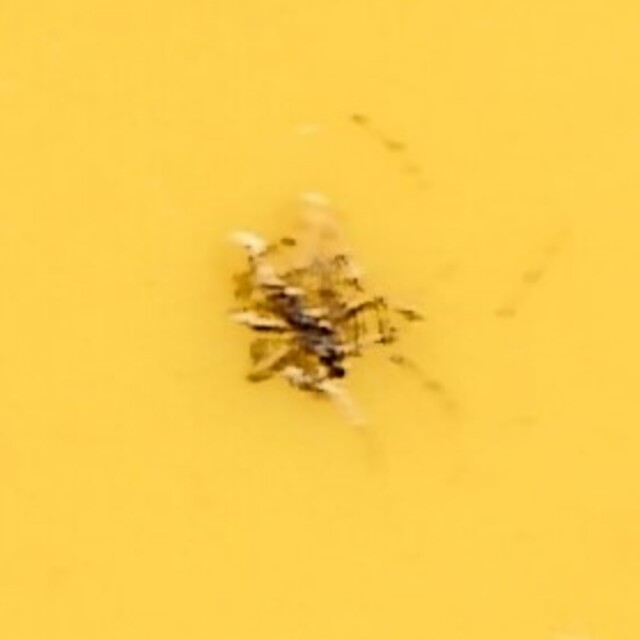Nematocera: (229, 232, 411, 408)
